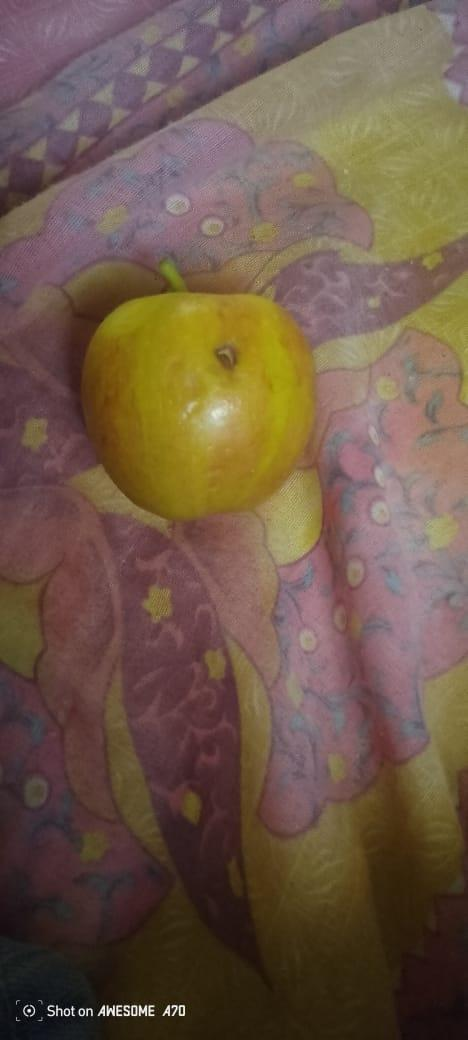non-mango: (77, 284, 313, 505)
